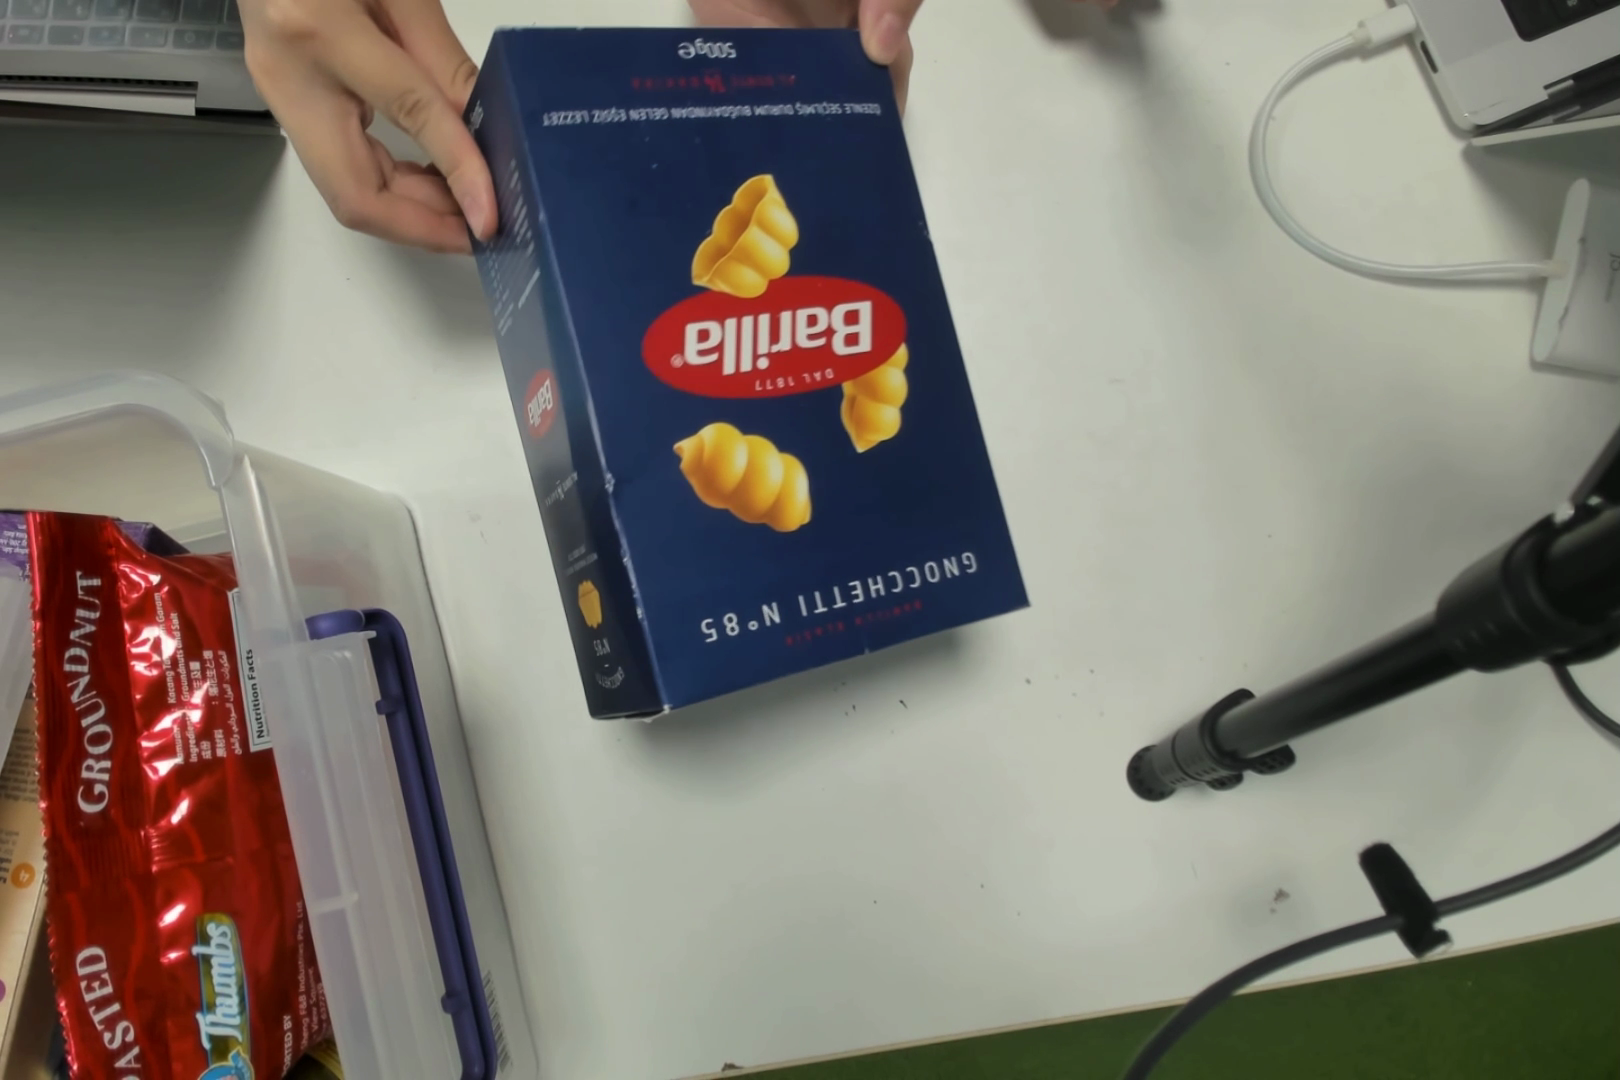Pasta_500-599g_NonHalal_NonHealthy: (534, 27, 1008, 676)
